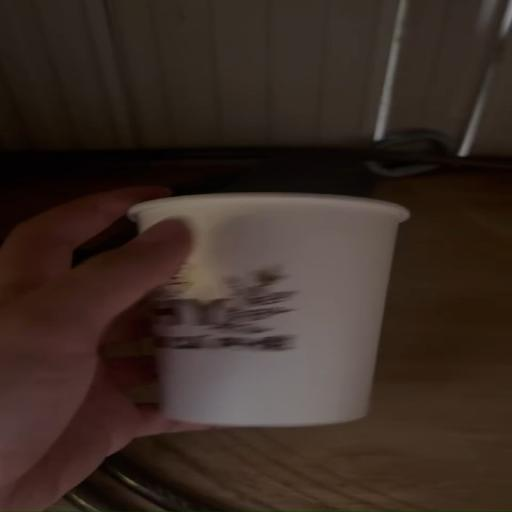Ly_giay: (129, 192, 409, 426)
